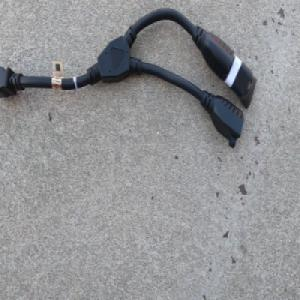Wire: (0, 7, 256, 150)
